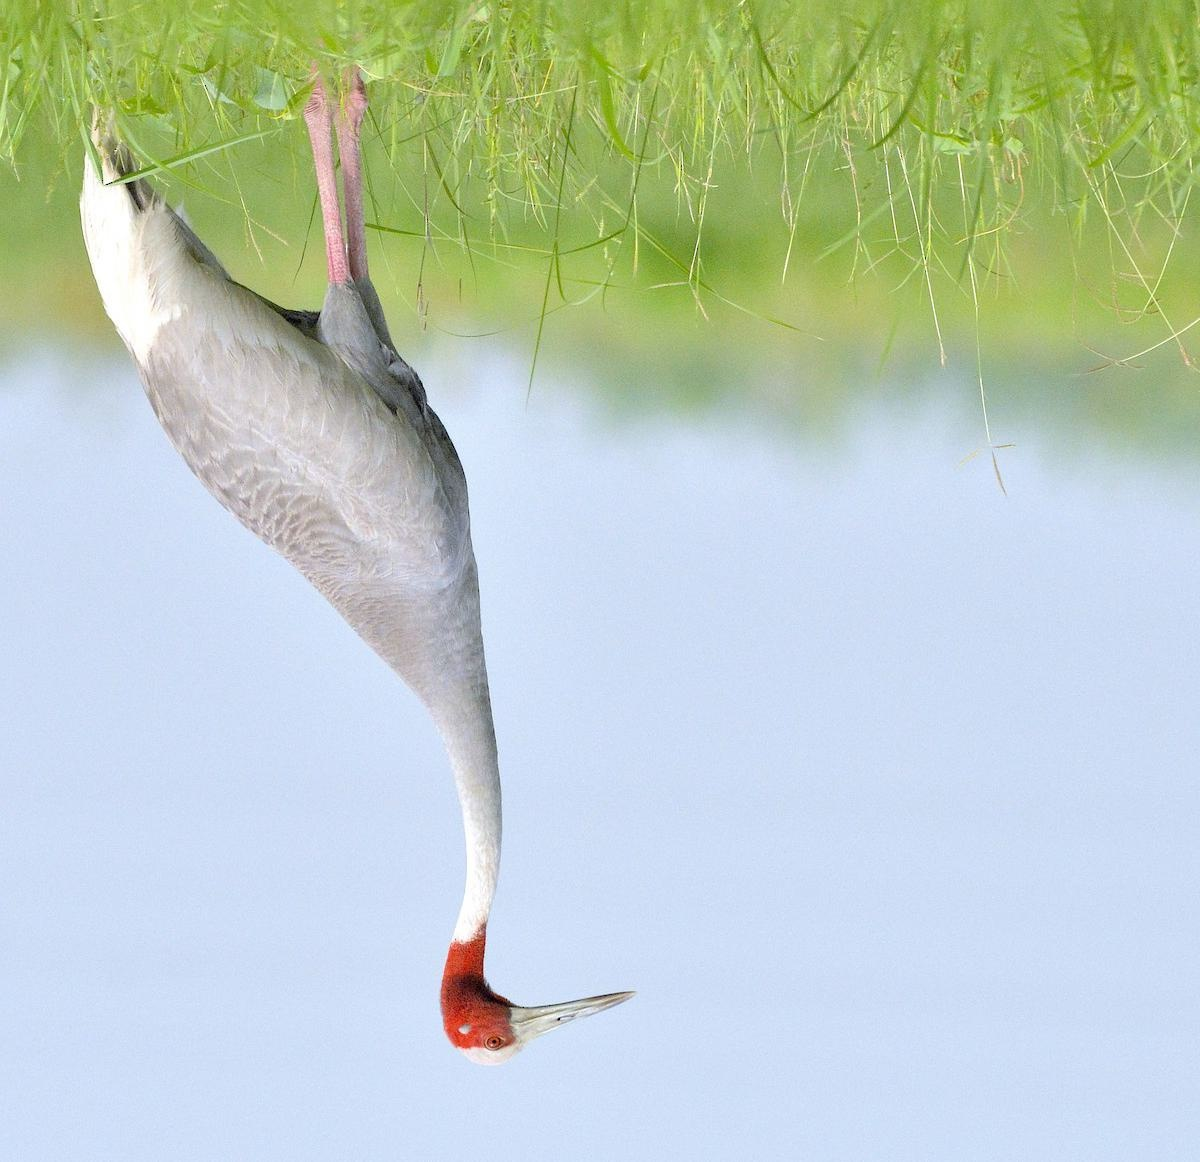crane: (67, 104, 682, 1081)
